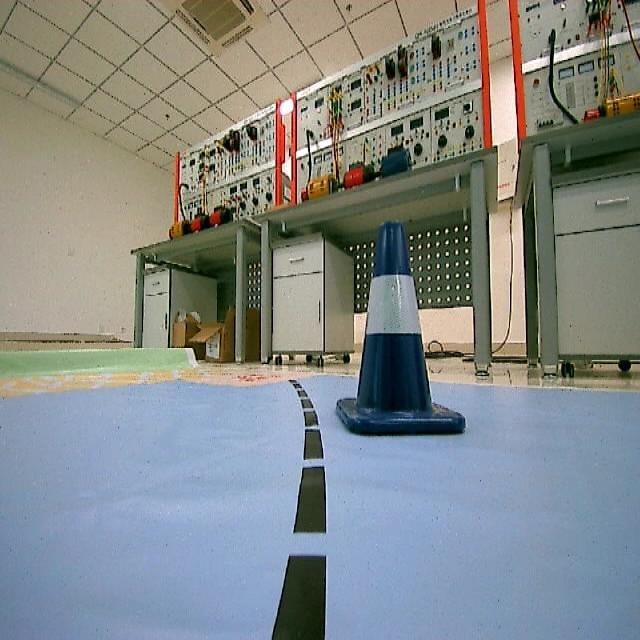obstacle: (331, 213, 473, 452)
